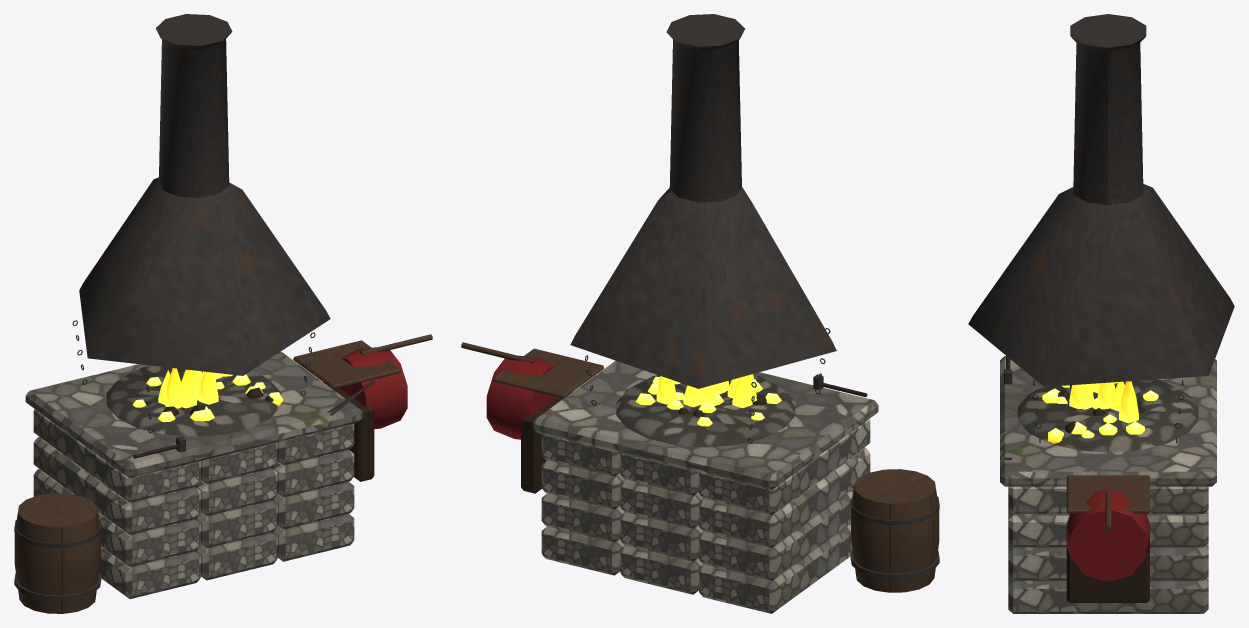
Rendered from forge.glb.
3 renders of one model, left to right at view 1: azimuth 30°, elevation 25°; view 2: azimuth 150°, elevation 25°; view 3: azimuth 270°, elevation 25°, orthographic. The views are drawn at different scales.
Parts seen in each view (by area): view 1: forge; view 2: forge; view 3: forge.
Part boxes in pixels (left/top/right/bottom): forge: left=14, top=14, right=432, bottom=613; forge: left=461, top=14, right=939, bottom=613; forge: left=968, top=14, right=1234, bottom=613.
Size of the model in its own units: 3.12 by 3.5 by 1.6.
1 material, 1 textured.
